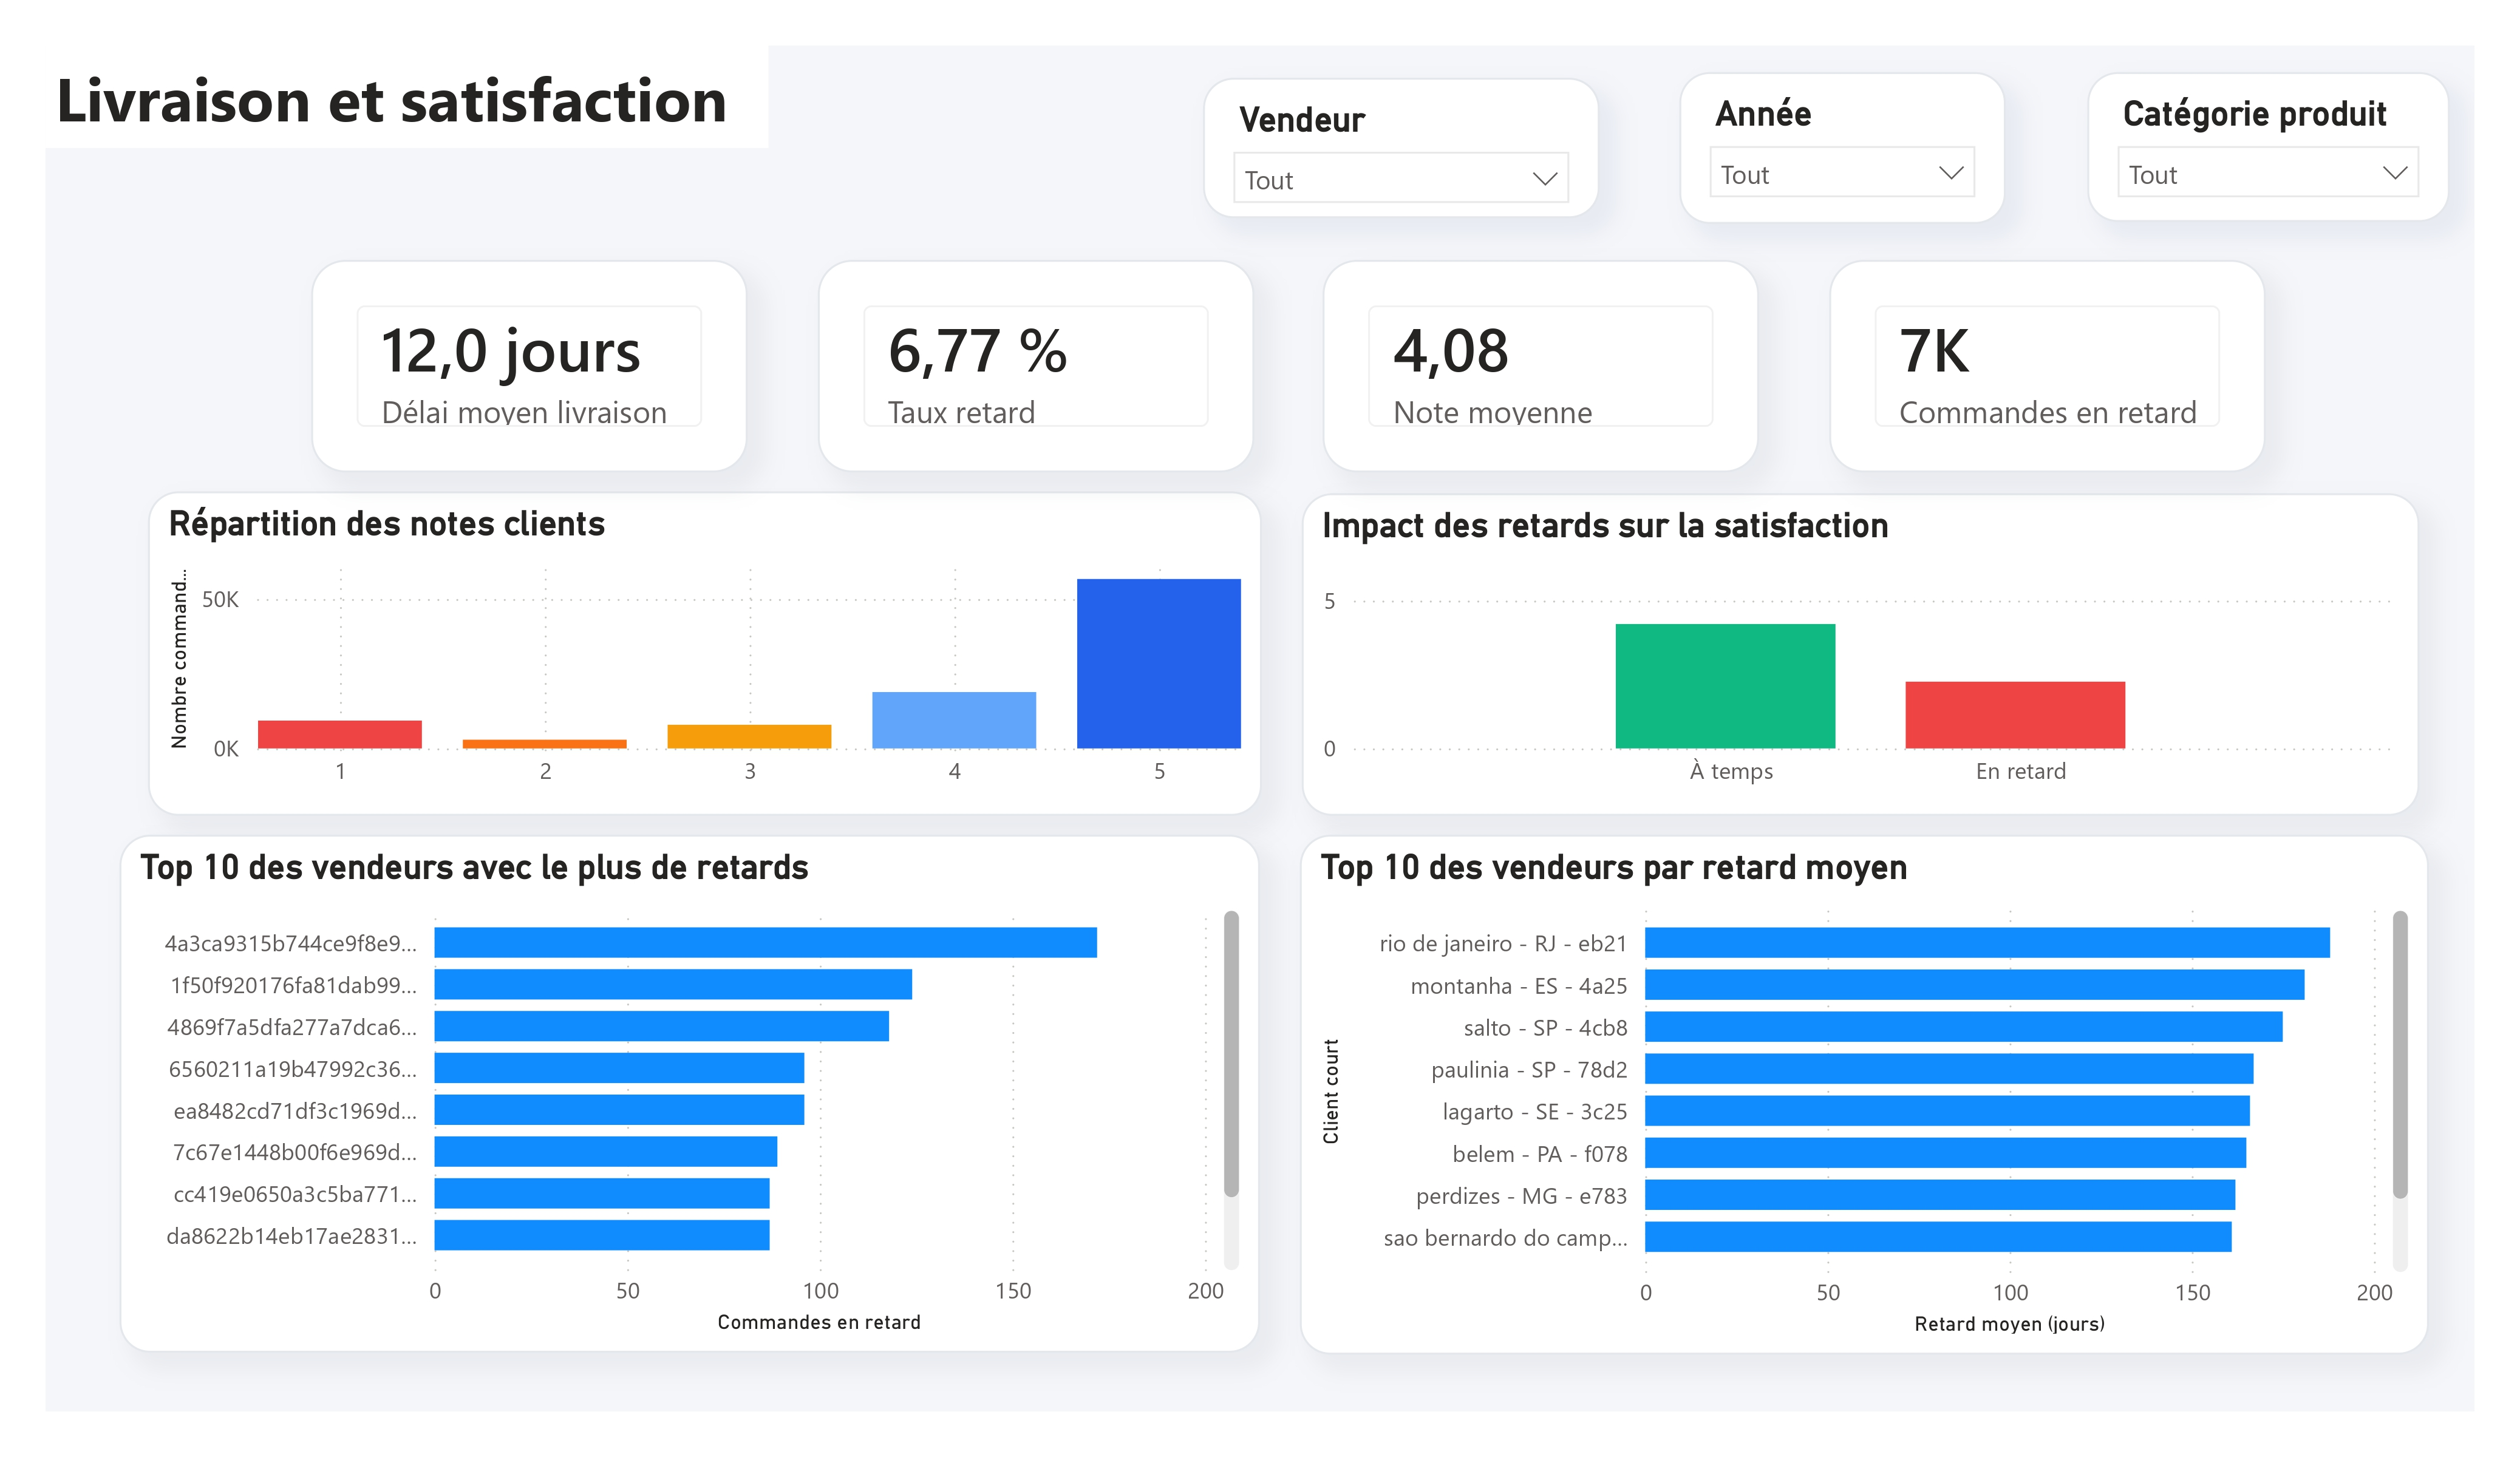

This screenshot's page, from the dashboard's own definition file:
{"tool":"powerbi","page":{"name":"Livraison et satisfaction","canvas":[1280,720],"ordinal":1},"visuals":[{"type":"clusteredColumnChart","title":"Impact des retards sur la satisfaction","fields":{"Category":["public fact_sales.Statut livraison"],"Y":["public fact_sales.Note moyenne"]},"box":[662.1,236.4,588.6,170],"z":0},{"type":"clusteredColumnChart","title":"Répartition des notes clients","fields":{"Y":["public fact_sales.Nombre commandes"],"Category":["public fact_sales.review_score"]},"box":[53.6,235,587.1,171.4],"z":3000},{"type":"cardVisual","fields":{"Data":["public fact_sales.Délai moyen livraison"]},"box":[140,113.2,230,111.4],"z":3500},{"type":"cardVisual","fields":{"Data":["public fact_sales.Taux retard"]},"box":[406.7,113.2,230,111.4],"z":3750},{"type":"barChart","title":"Top 10 des vendeurs avec le plus de retards","fields":{"Category":["public dim_seller.seller_id"],"Y":["public fact_sales.Nombre commandes en retard"]},"box":[38.6,416,601.7,273.3],"z":4000},{"type":"barChart","title":"Top 10 des vendeurs par retard moyen","fields":{"Category":["public dim_customer.Client court"],"Y":["public fact_sales.Retard moyen jours"]},"box":[661.4,415.7,594.3,274.3],"z":5000},{"type":"slicer","fields":{"Values":["public dim_seller.seller_id"]},"box":[610.2,16.5,208.3,74.2],"z":6000},{"type":"textbox","box":[0,0,381.4,54.3],"z":7000},{"type":"slicer","fields":{"Values":["public dim_date.year"]},"box":[861.2,13.6,171.7,80],"z":8000},{"type":"slicer","fields":{"Values":["public dim_product.product_category"]},"box":[1075.6,13.9,191.4,79.4],"z":9000},{"type":"cardVisual","fields":{"Data":["public fact_sales.Note moyenne"]},"box":[673.3,113.2,230,111.4],"z":11500},{"type":"cardVisual","fields":{"Data":["public fact_sales.Nombre commandes en retard"]},"box":[940,113.2,230,111.4],"z":12000}]}

Visuals, with their boxes on the page's 1280x720 design canvas (x1, y1, x2, y2). These are canvas units, not pixel positions in the 2520x1457 screenshot, which may show the page scaled, cropped or inside an application window:
"Impact des retards sur la satisfaction" clusteredColumnChart: <region>662, 236, 1251, 406</region>
"Répartition des notes clients" clusteredColumnChart: <region>54, 235, 641, 406</region>
cardVisual - public fact_sales.Délai moyen livraison: <region>140, 113, 370, 225</region>
cardVisual - public fact_sales.Taux retard: <region>407, 113, 637, 225</region>
"Top 10 des vendeurs avec le plus de retards" barChart: <region>39, 416, 640, 689</region>
"Top 10 des vendeurs par retard moyen" barChart: <region>661, 416, 1256, 690</region>
slicer - public dim_seller.seller_id: <region>610, 16, 818, 91</region>
textbox: <region>0, 0, 381, 54</region>
slicer - public dim_date.year: <region>861, 14, 1033, 94</region>
slicer - public dim_product.product_category: <region>1076, 14, 1267, 93</region>
cardVisual - public fact_sales.Note moyenne: <region>673, 113, 903, 225</region>
cardVisual - public fact_sales.Nombre commandes en retard: <region>940, 113, 1170, 225</region>
